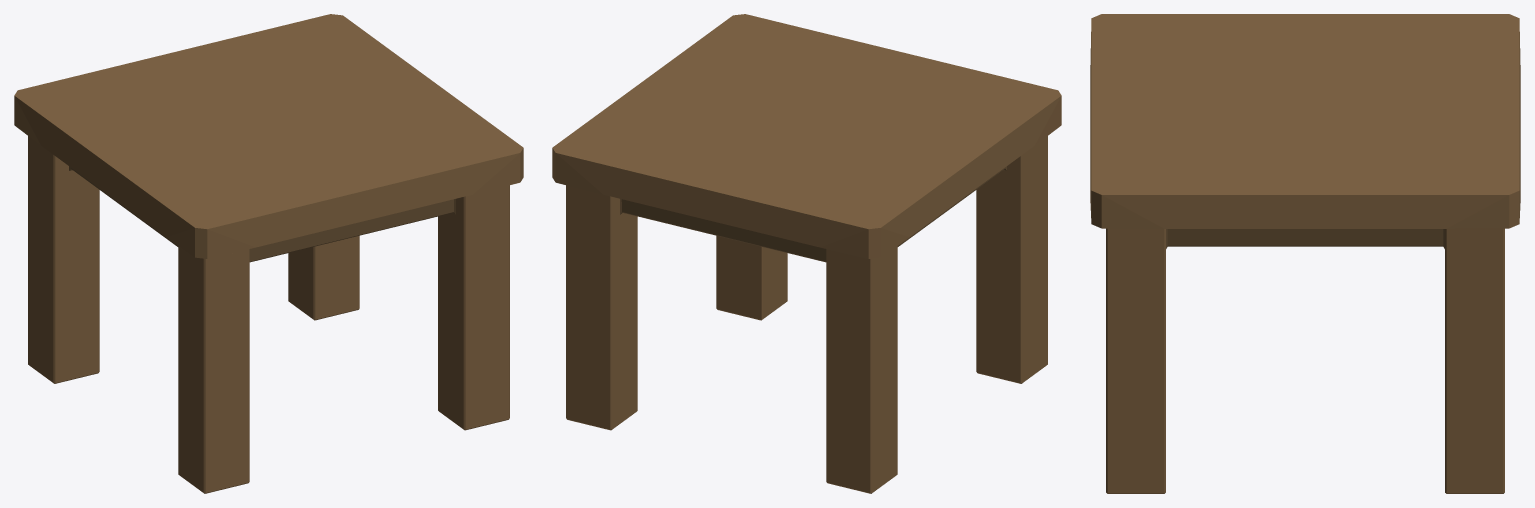
File: Table.fbx
3 renders of one model, left to right at view 1: azimuth 30°, elevation 25°; view 2: azimuth 150°, elevation 25°; view 3: azimuth 270°, elevation 25°, orthographic. The views are drawn at different scales.
Visible parts, largest first — view 1: Cube.001; view 2: Cube.001; view 3: Cube.001.
Boxes of the visible parts, box(x1,y1,x2,y2) form: Cube.001: box(14, 14, 523, 493); Cube.001: box(552, 14, 1061, 493); Cube.001: box(1090, 14, 1520, 493).
Bounding box in the file's own units: 0.8003 × 0.6274 × 0.8003.
